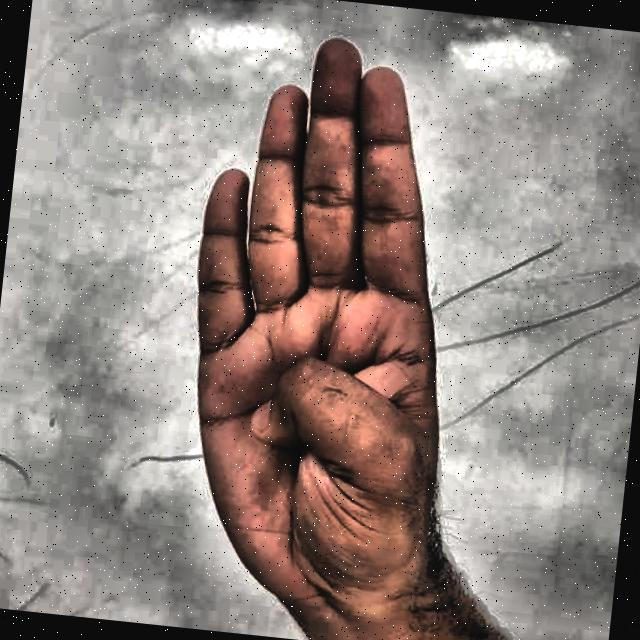Ba: (119, 2, 539, 640)
